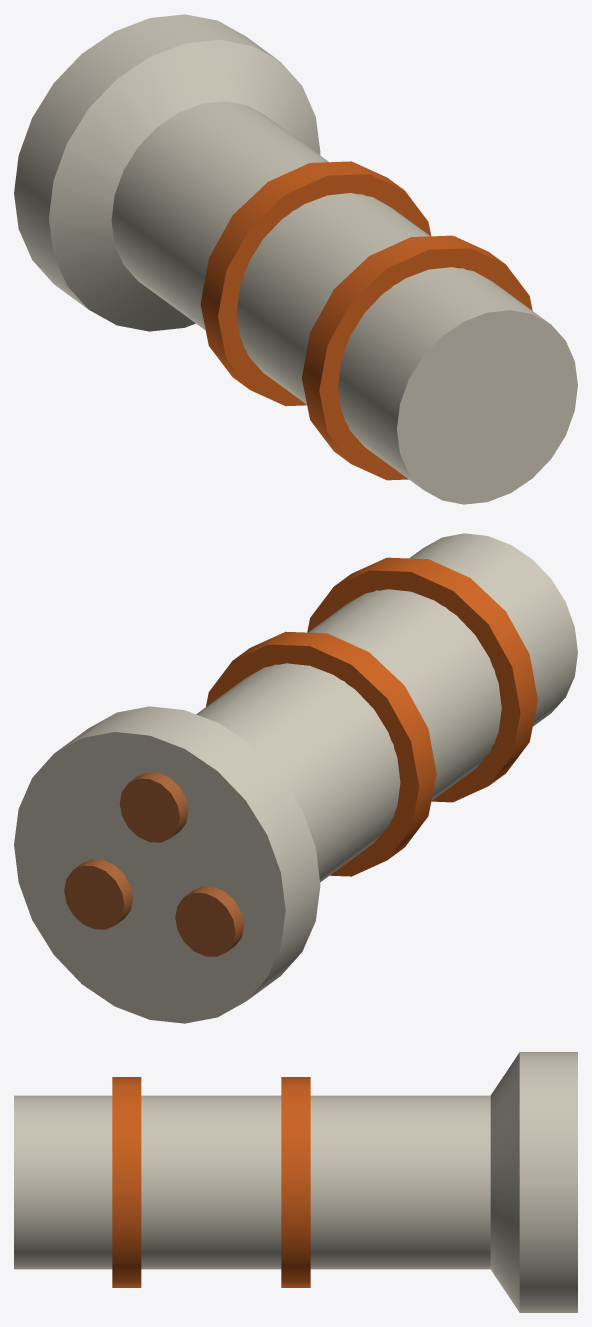
File: u65m_busbar.obj
3 views of the same model, one above another, from view 1: azimuth 30°, elevation 25°; view 2: azimuth 150°, elevation 25°; view 3: azimuth 270°, elevation 25° (orthographic). The views are drawn at different scales.
Parts seen in each view (by area): view 1: u65m_busbar; view 2: u65m_busbar; view 3: u65m_busbar.
Boxes of the visible parts, left/top/right/bottom form: u65m_busbar: left=14, top=14, right=577, bottom=504; u65m_busbar: left=14, top=533, right=577, bottom=1023; u65m_busbar: left=14, top=1052, right=577, bottom=1312.
Bounding box in the file's own units: 0.72 × 0.72 × 1.55.
